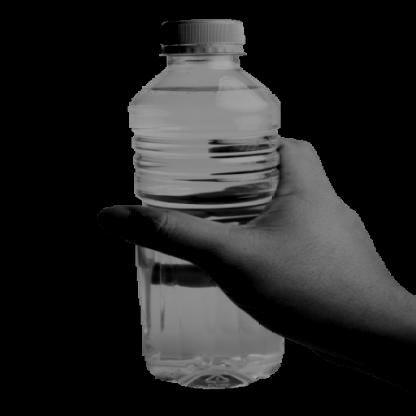bottle: (125, 11, 283, 394)
